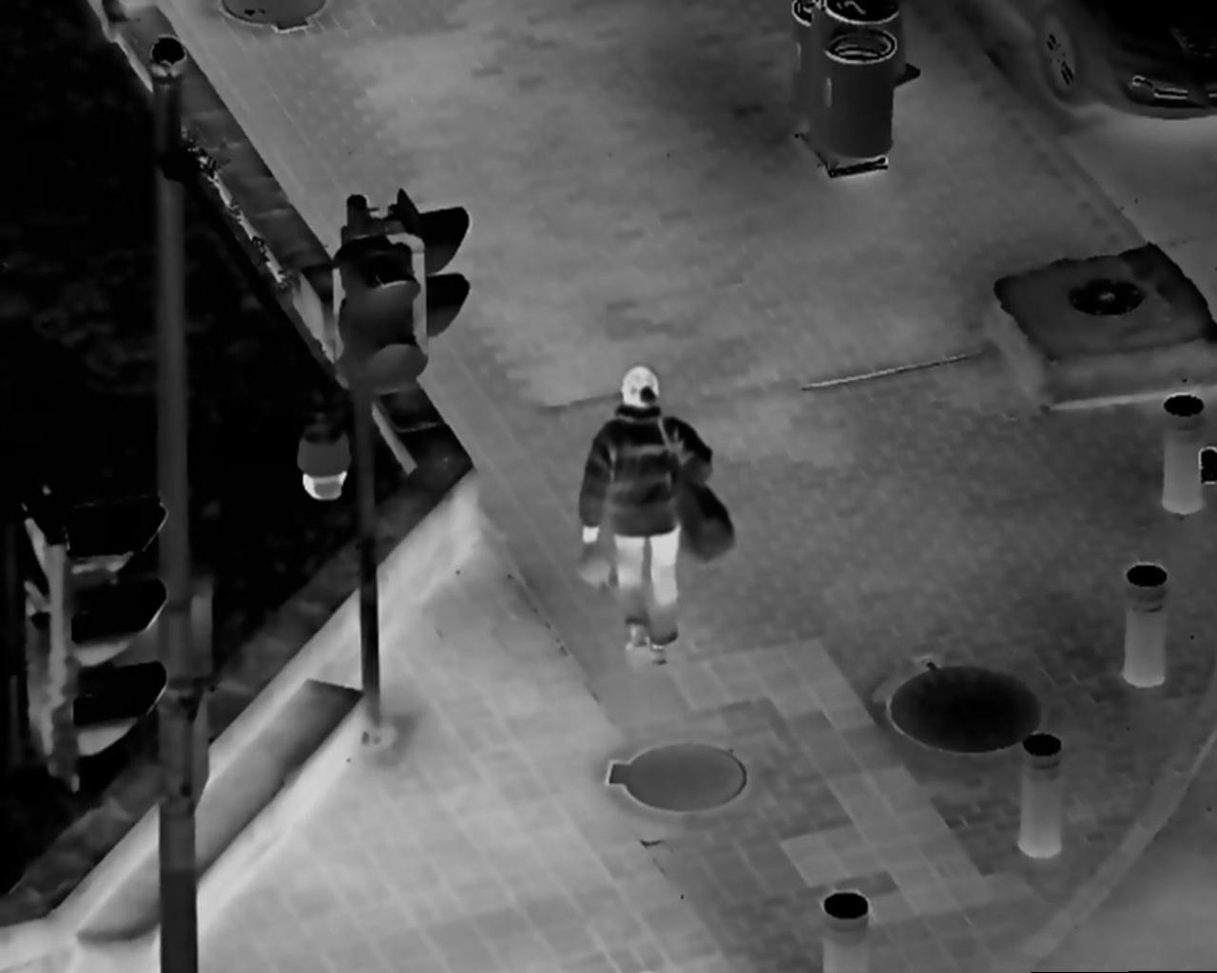person: (573, 357, 737, 676)
